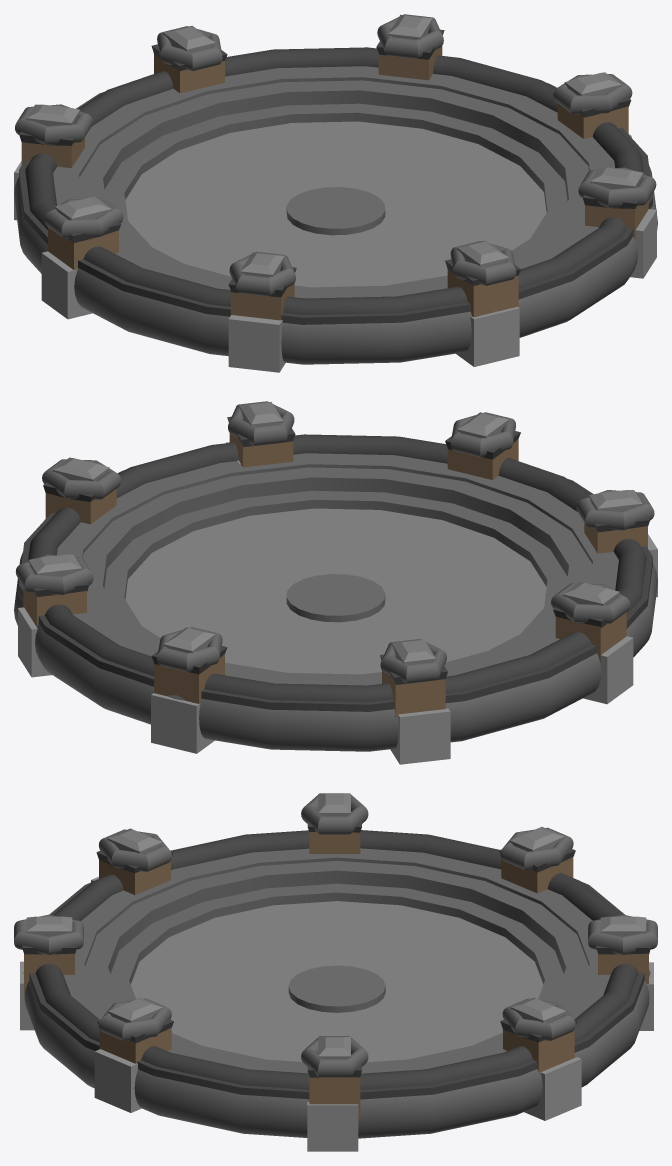
The model's file is fountain.fbx.
3 renders of one model, top to bottom at view 1: azimuth 30°, elevation 25°; view 2: azimuth 150°, elevation 25°; view 3: azimuth 270°, elevation 25°, orthographic. The views are drawn at different scales.
Parts seen in each view (by area): view 1: polySurface32; view 2: polySurface32; view 3: polySurface32.
Boxes of the visible parts, x1=… form: polySurface32: x1=14, y1=14, x2=657, y2=372; polySurface32: x1=14, y1=401, x2=657, y2=764; polySurface32: x1=14, y1=793, x2=657, y2=1151.
Size of the model in its own units: 8.67 by 1.48 by 8.67.
